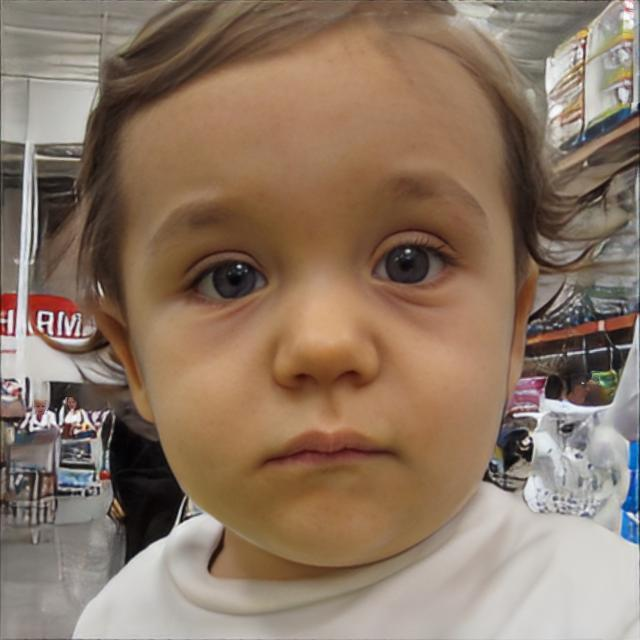sad: (121, 38, 514, 570), (67, 398, 76, 408)
